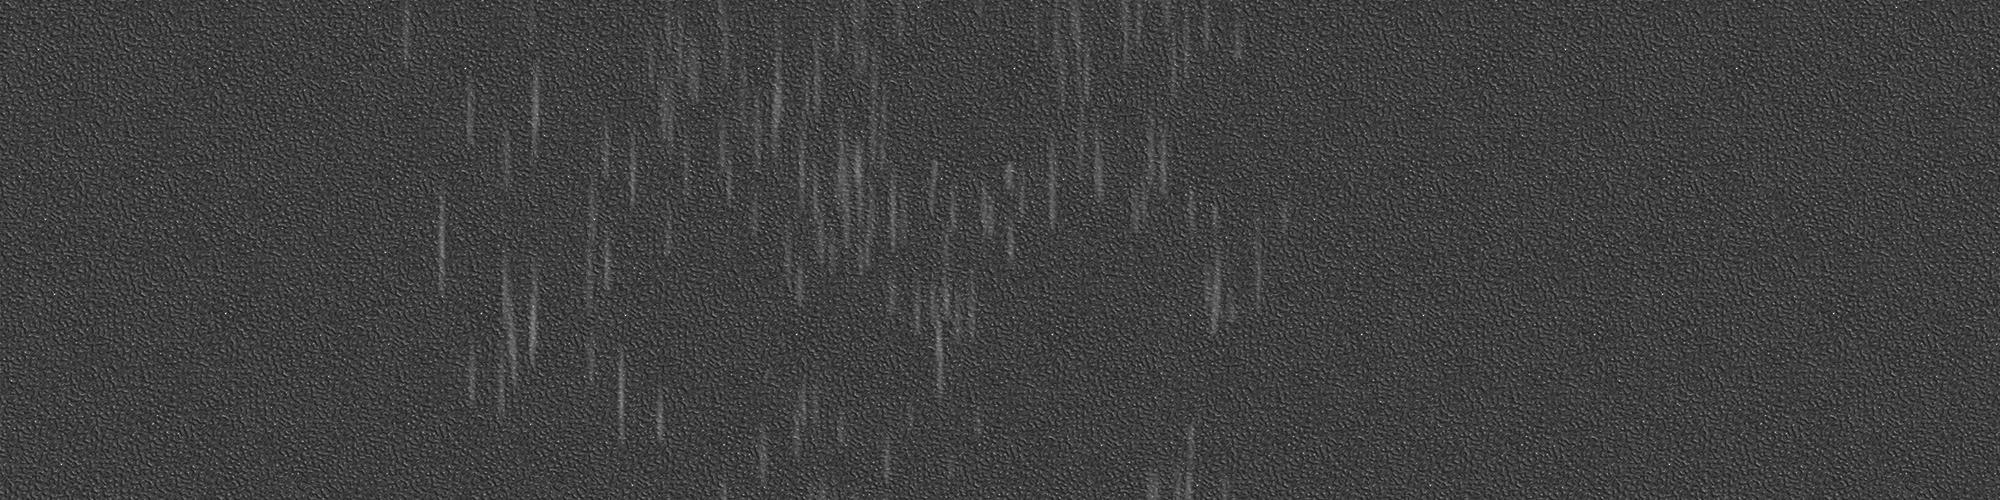Streaks: (642, 4, 798, 309), (788, 10, 915, 324), (710, 364, 915, 500), (1181, 176, 1306, 344), (878, 241, 994, 404), (578, 124, 645, 402), (1031, 5, 1110, 221), (918, 135, 1036, 274), (460, 227, 543, 420), (450, 65, 543, 199), (1130, 418, 1247, 500), (1114, 115, 1179, 231), (1156, 0, 1203, 102), (1202, 6, 1259, 78), (427, 180, 455, 309), (608, 327, 631, 455), (1114, 1, 1152, 70), (652, 367, 675, 453), (398, 5, 418, 80), (520, 6, 545, 68), (962, 398, 995, 443), (940, 439, 968, 489)
